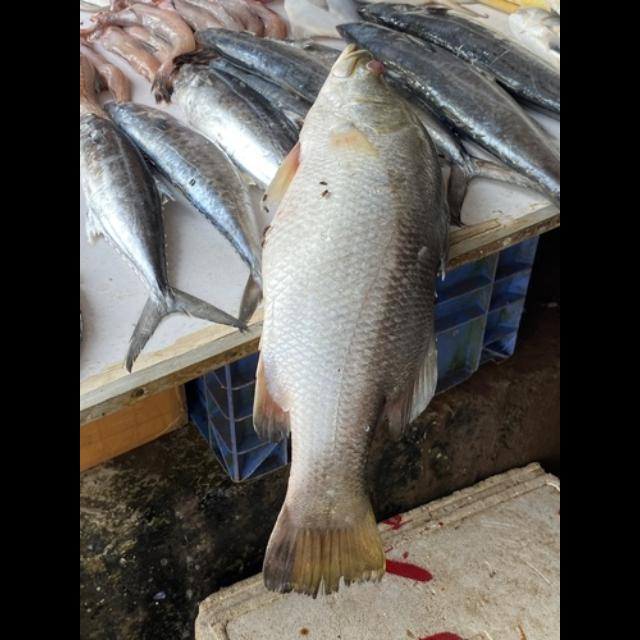Seabass: (255, 41, 450, 600)
